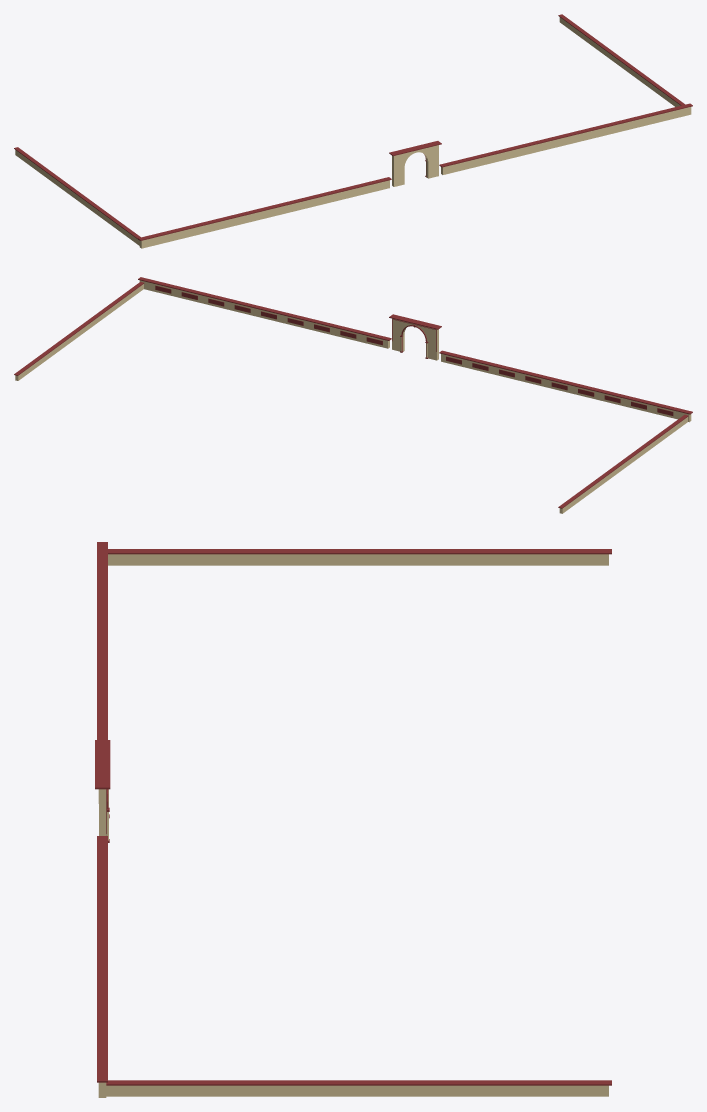
Rendered from KOL_T1_DAKSHINESHWAR__13_Boundary_Support.fbx.
3 views of the same model, one above another, from view 1: azimuth 30°, elevation 25°; view 2: azimuth 150°, elevation 25°; view 3: azimuth 270°, elevation 25° (orthographic). The views are drawn at different scales.
Visible parts, largest first — view 1: KOL_T1_DAKSHINESHWAR__13_Boundary_Support__KOL_T1_TempleCrea, KOL_T1_DAKSHINESHWAR__13_Boundary_Support__KOL_T1_TempleRed; view 2: KOL_T1_DAKSHINESHWAR__13_Boundary_Support__KOL_T1_TempleCrea, KOL_T1_DAKSHINESHWAR__13_Boundary_Support__KOL_T1_TempleRed; view 3: KOL_T1_DAKSHINESHWAR__13_Boundary_Support__KOL_T1_TempleCrea, KOL_T1_DAKSHINESHWAR__13_Boundary_Support__KOL_T1_TempleRed.
Boxes of the visible parts, left/top/right/bottom form: KOL_T1_DAKSHINESHWAR__13_Boundary_Support__KOL_T1_TempleCrea: left=15, top=17, right=691, bottom=248; KOL_T1_DAKSHINESHWAR__13_Boundary_Support__KOL_T1_TempleRed: left=14, top=14, right=692, bottom=240; KOL_T1_DAKSHINESHWAR__13_Boundary_Support__KOL_T1_TempleCrea: left=15, top=280, right=691, bottom=513; KOL_T1_DAKSHINESHWAR__13_Boundary_Support__KOL_T1_TempleRed: left=14, top=277, right=692, bottom=508; KOL_T1_DAKSHINESHWAR__13_Boundary_Support__KOL_T1_TempleCrea: left=98, top=554, right=608, bottom=1097; KOL_T1_DAKSHINESHWAR__13_Boundary_Support__KOL_T1_TempleRed: left=95, top=542, right=611, bottom=1085.
Size of the model in its own units: 418 by 23.8 by 169.
